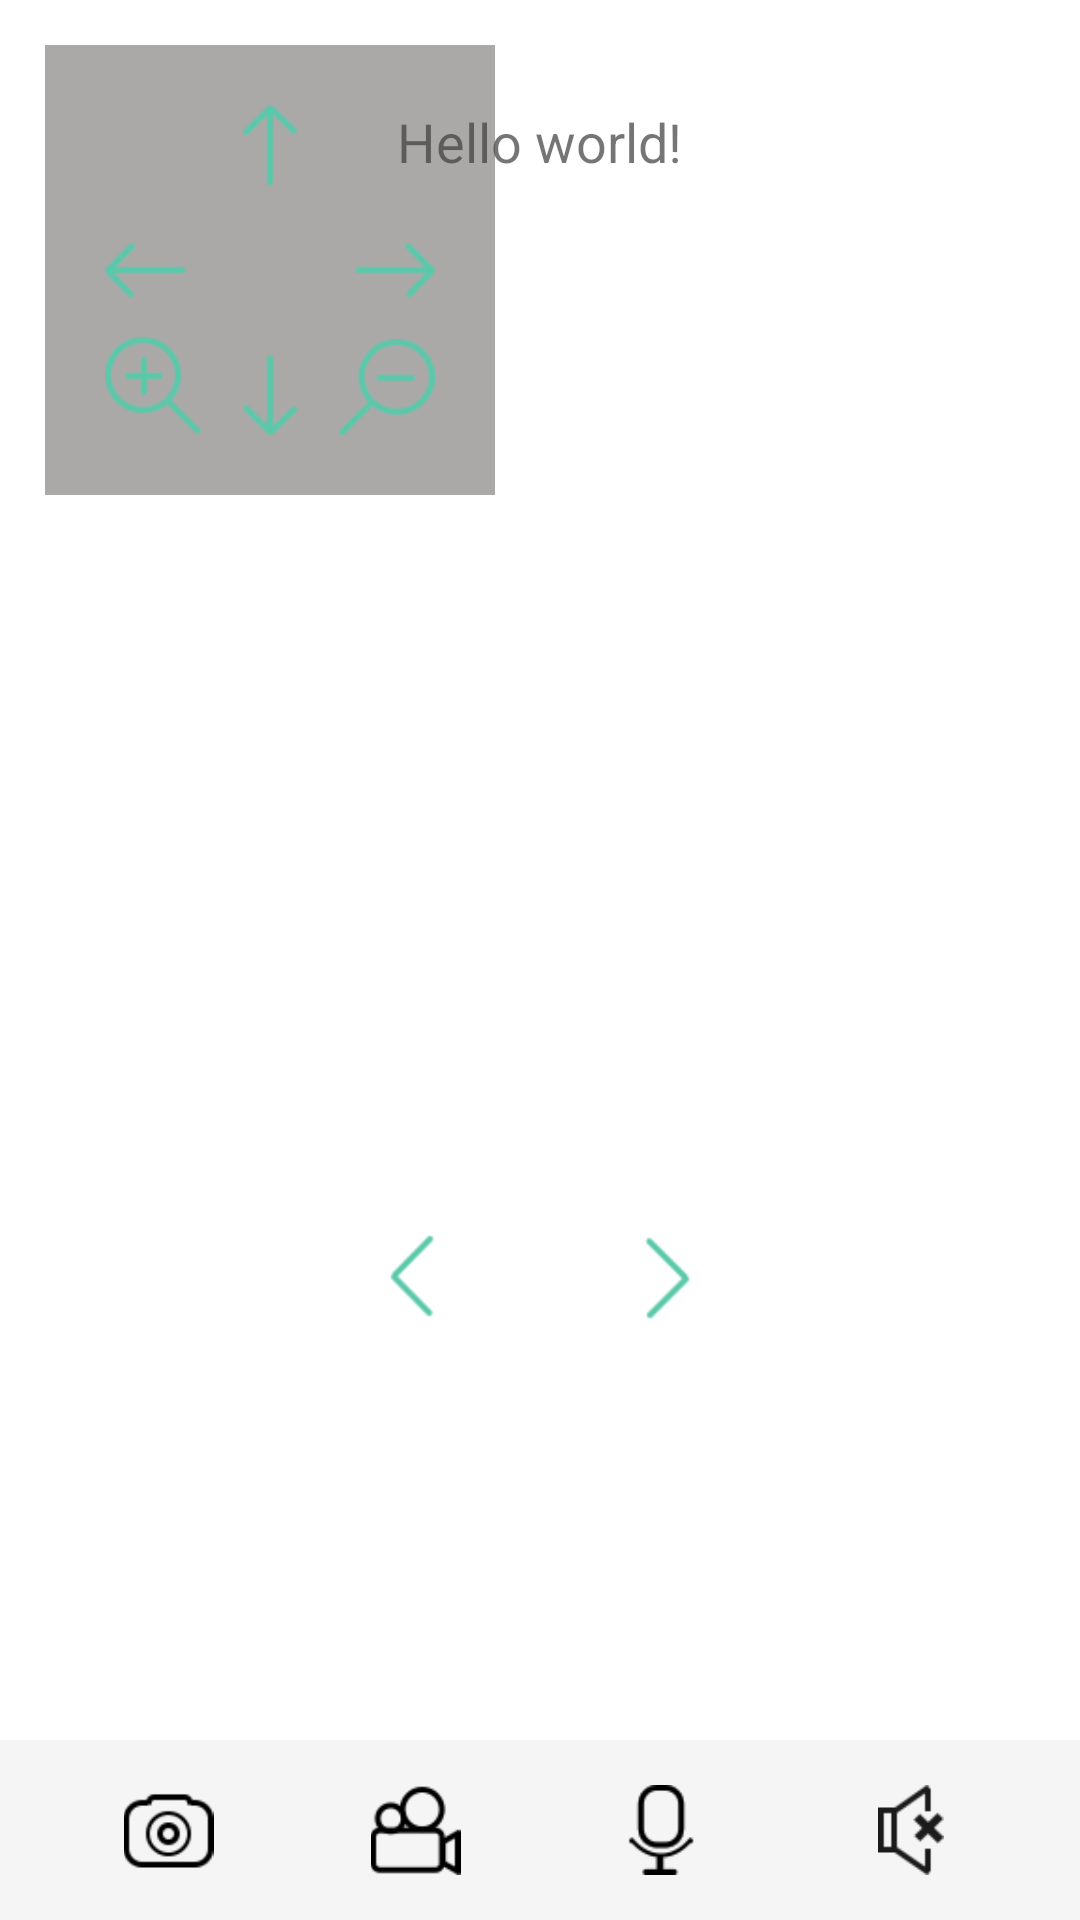

Point at icon controls on the screen. Image size 1080 × 1920, points as (x=x, y=y).
cloud down: (x=270, y=395)
cloud left: (x=145, y=270)
cloud right: (x=395, y=270)
cloud up: (x=270, y=145)
